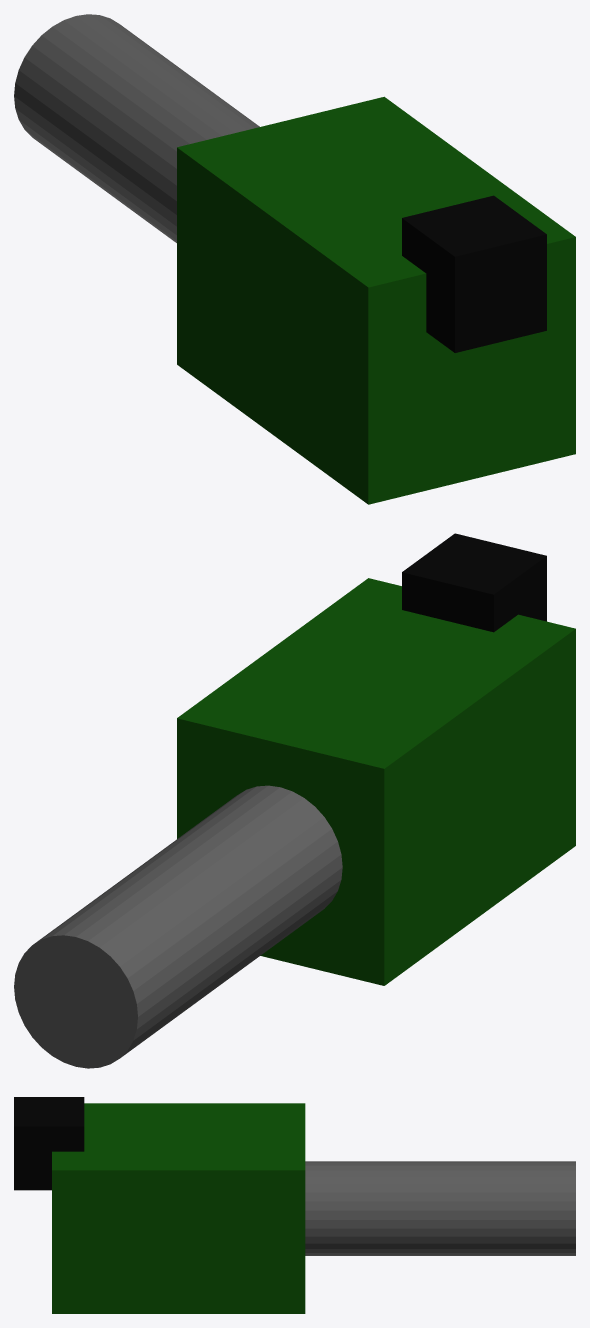
File: MiniGun LOW.fbx
3 views of the same model, one above another, from view 1: azimuth 30°, elevation 25°; view 2: azimuth 150°, elevation 25°; view 3: azimuth 270°, elevation 25° (orthographic). The views are drawn at different scales.
Parts seen in each view (by area): view 1: Minigun Low; view 2: Minigun Low; view 3: Minigun Low.
Boxes of the visible parts, x1,y1,x2,y2 form: Minigun Low: (14,14,575,504); Minigun Low: (14,533,575,1068); Minigun Low: (14,1097,575,1313).
Size of the model in its own units: 200 by 235 by 709.
